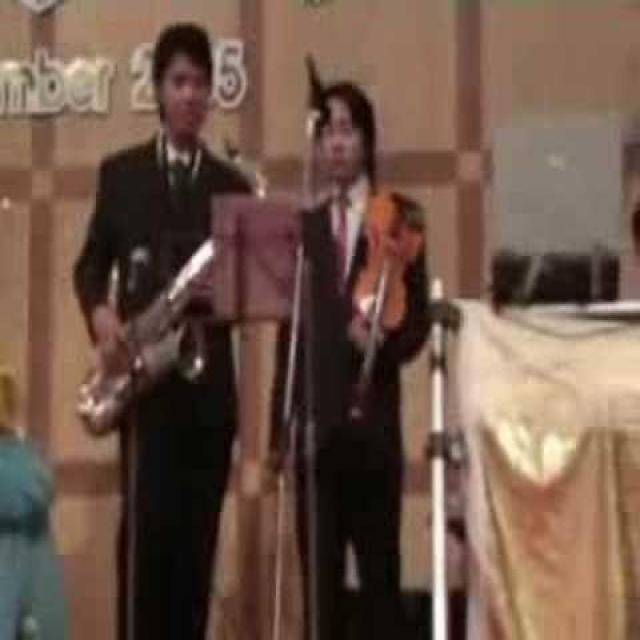saxophone: (75, 142, 275, 440)
violin: (342, 187, 432, 422)
